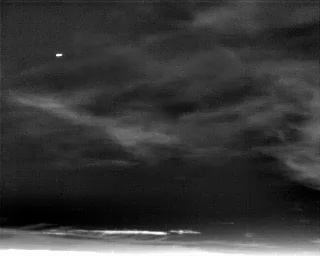AIRPLANE: (54, 50, 65, 60)
